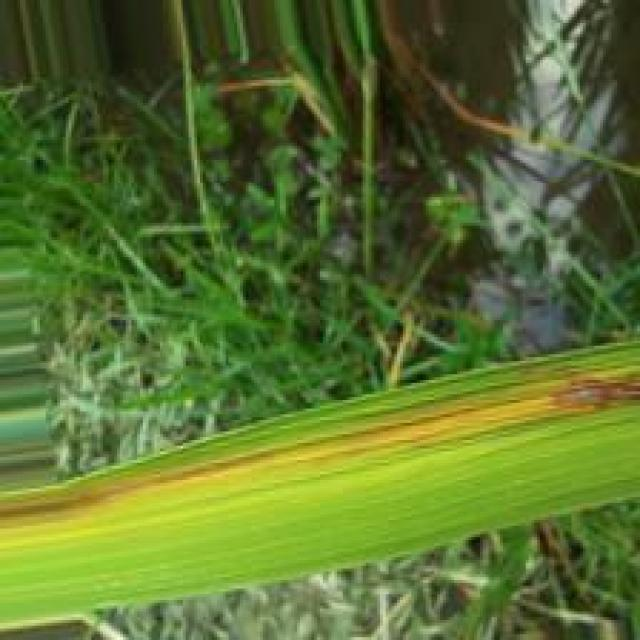Narrow_Brown_Leaf_Spot: (4, 364, 640, 521)
